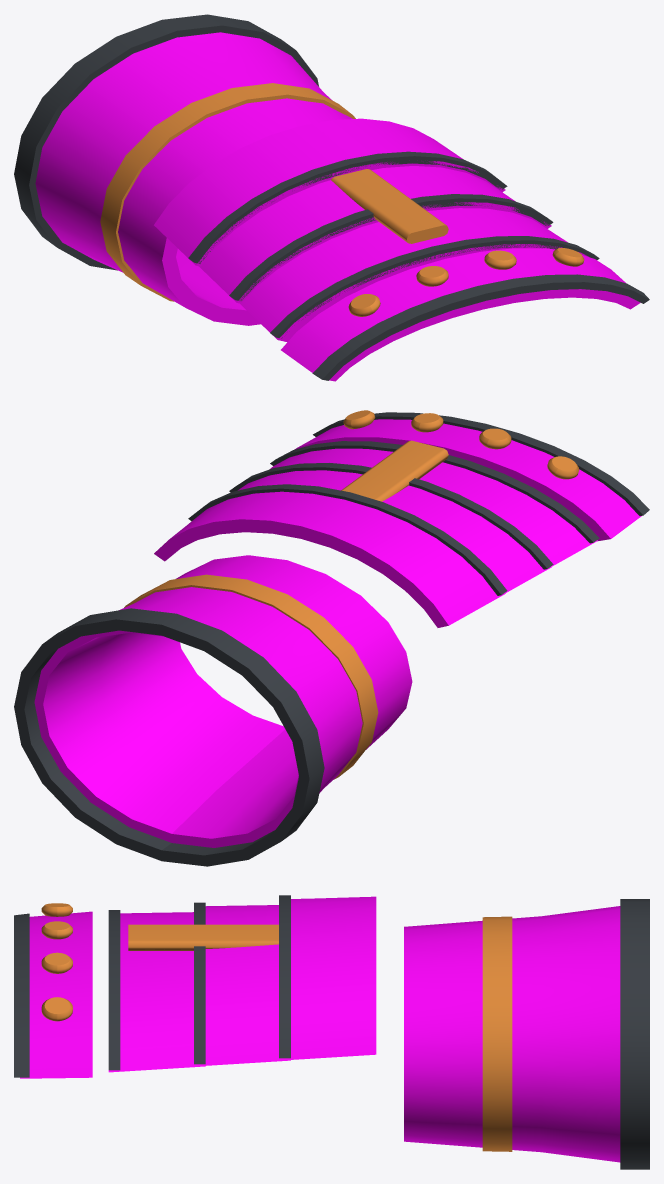
Rendered from gantelet_armure3.glb.
The picture shows the model from 3 angles, top to bottom: view 1: azimuth 30°, elevation 25°; view 2: azimuth 150°, elevation 25°; view 3: azimuth 270°, elevation 25°; orthographic projection.
Parts seen in each view (by area): view 1: main__gantelet_teinte, manchette__gantelet_teinte, main__gantelet_teinte_sombre, manchette__gantelet_teinte_sombre, manchette__gantelet_composite_bande, main__gantelet_composite_bande; view 2: manchette__gantelet_teinte, main__gantelet_teinte, manchette__gantelet_teinte_sombre, main__gantelet_teinte_sombre, manchette__gantelet_composite_bande, main__gantelet_composite_bande; view 3: manchette__gantelet_teinte, main__gantelet_teinte, main__gantelet_teinte_sombre, manchette__gantelet_teinte_sombre, manchette__gantelet_composite_bande, main__gantelet_composite_bande.
Boxes of the visible parts, bbox=[...] form: main__gantelet_teinte: bbox=[154, 118, 640, 381]; manchette__gantelet_teinte: bbox=[35, 32, 352, 325]; main__gantelet_teinte_sombre: bbox=[188, 151, 649, 380]; manchette__gantelet_teinte_sombre: bbox=[14, 14, 318, 270]; manchette__gantelet_composite_bande: bbox=[100, 83, 355, 301]; main__gantelet_composite_bande: bbox=[331, 169, 584, 316]; manchette__gantelet_teinte: bbox=[34, 555, 412, 847]; main__gantelet_teinte: bbox=[154, 419, 641, 627]; manchette__gantelet_teinte_sombre: bbox=[14, 608, 324, 866]; main__gantelet_teinte_sombre: bbox=[188, 412, 649, 595]; manchette__gantelet_composite_bande: bbox=[124, 574, 378, 779]; main__gantelet_composite_bande: bbox=[341, 410, 579, 501]; manchette__gantelet_teinte: bbox=[404, 906, 620, 1162]; main__gantelet_teinte: bbox=[20, 896, 376, 1078]; main__gantelet_teinte_sombre: bbox=[14, 895, 290, 1077]; manchette__gantelet_teinte_sombre: bbox=[620, 899, 649, 1169]; manchette__gantelet_composite_bande: bbox=[482, 916, 512, 1151]; main__gantelet_composite_bande: bbox=[41, 903, 278, 1021].
Size of the model in its own units: 0.0952 by 0.065 by 0.1615.
